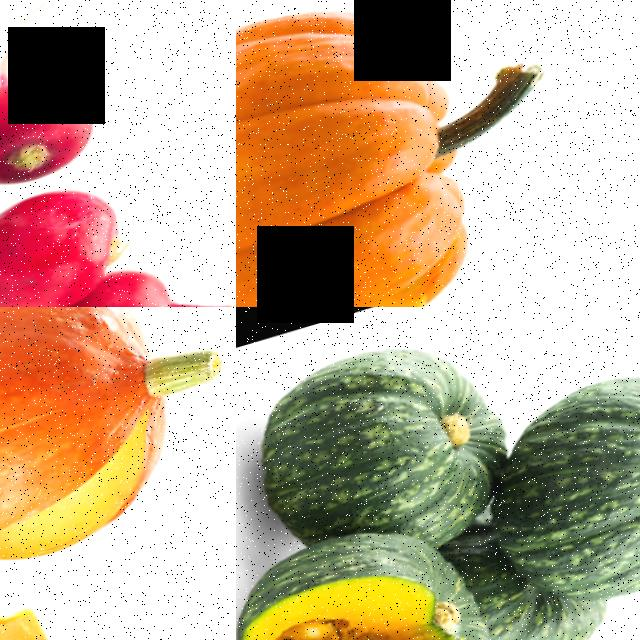pumpkin: (236, 0, 529, 307), (236, 317, 523, 556), (0, 307, 212, 583), (493, 348, 640, 619), (236, 511, 513, 640)
radishes: (0, 169, 146, 307), (0, 44, 115, 193), (28, 258, 211, 307)
